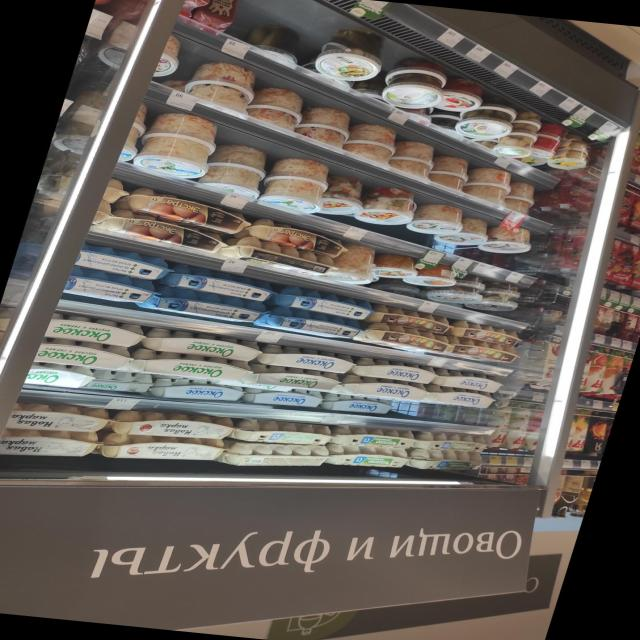organic waste: (304, 26, 397, 84), (133, 286, 266, 324), (100, 430, 226, 470), (110, 407, 236, 444), (126, 349, 256, 383), (0, 424, 104, 466), (139, 327, 266, 361), (158, 269, 281, 302), (182, 59, 264, 108), (260, 285, 378, 319), (72, 244, 178, 281), (6, 401, 114, 437), (43, 313, 149, 349), (255, 306, 363, 340), (133, 136, 214, 180), (31, 337, 135, 371), (230, 417, 334, 450), (61, 272, 161, 306), (256, 344, 359, 376), (350, 186, 423, 228), (373, 73, 449, 112), (355, 324, 453, 354), (254, 177, 330, 215), (446, 105, 522, 143), (150, 377, 248, 406), (350, 357, 443, 386), (332, 375, 428, 403), (244, 86, 308, 128), (242, 364, 341, 391), (363, 305, 455, 334), (194, 163, 267, 199), (294, 105, 356, 147), (324, 442, 410, 471), (323, 243, 381, 285), (342, 122, 400, 163), (310, 175, 366, 216), (331, 424, 416, 451), (407, 447, 488, 475), (444, 338, 525, 366), (265, 155, 335, 184), (204, 143, 274, 172), (85, 368, 157, 396), (412, 430, 492, 455), (462, 168, 516, 205), (388, 140, 442, 177), (241, 385, 324, 409), (448, 321, 527, 346), (422, 385, 497, 411), (426, 155, 480, 191), (435, 78, 488, 114), (430, 369, 506, 394), (410, 203, 466, 236), (24, 362, 87, 389), (319, 393, 394, 415), (480, 226, 536, 255), (499, 181, 544, 217), (438, 218, 493, 247), (368, 255, 420, 281), (425, 283, 483, 305), (409, 265, 460, 288), (471, 293, 521, 314)
